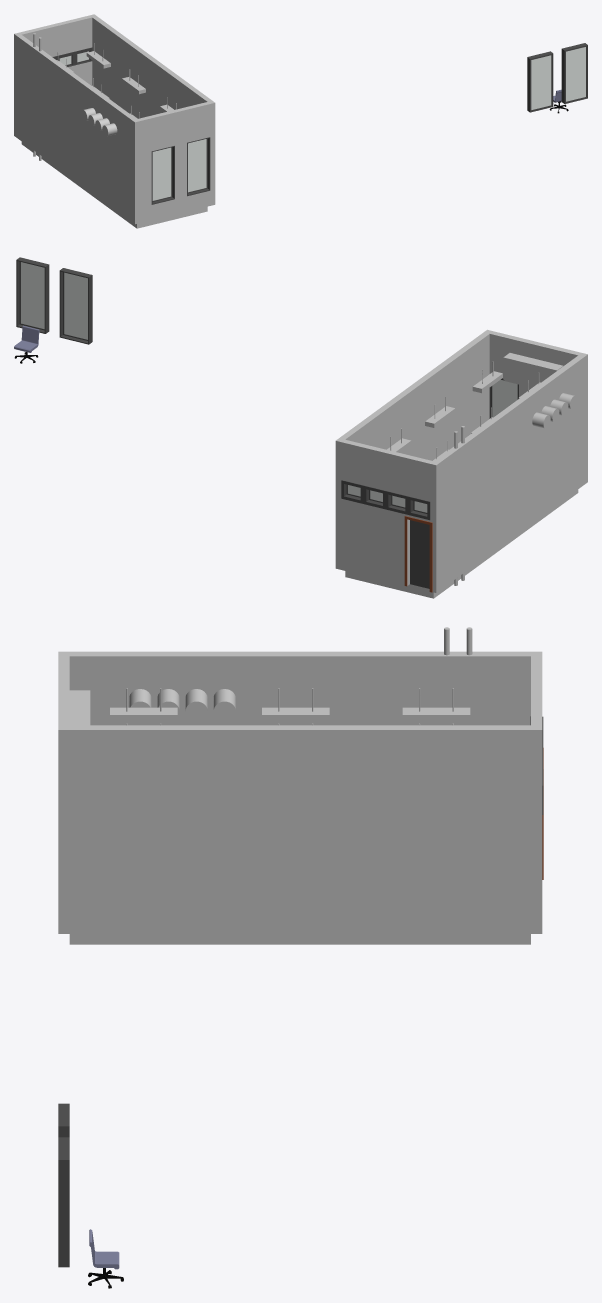
The model's file is 417-0622-simple.dae.
3 views of the same model, one above another, from view 1: azimuth 30°, elevation 25°; view 2: azimuth 150°, elevation 25°; view 3: azimuth 270°, elevation 25° (orthographic). The views are drawn at different scales.
Visible parts, largest first — view 1: 基本牆 通用 - 200mm [282980], 基本牆 通用 - 200mm [282975], 基本牆 通用 - 200mm [287786], 基本牆 通用 - 200mm [282977], M_固定 96*210*60 [321171] (×2), M_固定 96*210*60 [321170] (×2), M_固定 96*210*60 [282994] (×2), M_固定 96*210*60 [282993] (×2), 樓板 通用 300mm [309368]; view 2: 基本牆 通用 - 200mm [282980], 基本牆 通用 - 200mm [282977], 基本牆 通用 - 200mm [287786], 基本牆 通用 - 200mm [282975], M_固定 96*210*60 [321171] (×2), M_固定 96*210*60 [321170] (×2), M_單個嵌平 100*210 [282988] (×2), M_加熱裝置通風機 - 電子式 - 直立 - 教室 0-353 LPS [287397], 樓板 通用 300mm [309368], M_固定 96*210*60 [282993], M_椅-工作 M_椅-工作 [340613]; view 3: 基本牆 通用 - 200mm [287786], 基本牆 通用 - 200mm [282980], 樓板 通用 300mm [309368], 基本牆 通用 - 200mm [282975], 基本牆 通用 - 200mm [282977], M_固定 96*210*60 [321170], M_吊燈燈具 300x1200 - 120V [290002], M_吊燈燈具 300x1200 - 120V [290052], M_吊燈燈具 300x1200 - 120V [290061].
Boxes of the visible parts, x1,y1,x2,y2 form: 基本牆 通用 - 200mm [282980]: [16, 35, 136, 221]; 基本牆 通用 - 200mm [282975]: [132, 100, 215, 224]; 基本牆 通用 - 200mm [287786]: [92, 16, 211, 118]; 基本牆 通用 - 200mm [282977]: [14, 14, 96, 137]; M_固定 96*210*60 [321171] (×2): [527, 51, 553, 112]; M_固定 96*210*60 [321170] (×2): [561, 43, 587, 103]; M_固定 96*210*60 [282994] (×2): [151, 146, 174, 204]; M_固定 96*210*60 [282993] (×2): [187, 137, 210, 196]; 樓板 通用 300mm [309368]: [21, 142, 207, 228]; 基本牆 通用 - 200mm [282980]: [434, 355, 584, 589]; 基本牆 通用 - 200mm [282977]: [335, 438, 439, 592]; 基本牆 通用 - 200mm [287786]: [339, 332, 489, 460]; 基本牆 通用 - 200mm [282975]: [484, 329, 587, 484]; M_固定 96*210*60 [321171] (×2): [59, 268, 92, 344]; M_固定 96*210*60 [321170] (×2): [16, 257, 49, 333]; M_單個嵌平 100*210 [282988] (×2): [404, 516, 432, 592]; M_加熱裝置通風機 - 電子式 - 直立 - 教室 0-353 LPS [287397]: [503, 353, 563, 387]; 樓板 通用 300mm [309368]: [345, 489, 578, 598]; M_固定 96*210*60 [282993]: [492, 379, 517, 417]; M_椅-工作 M_椅-工作 [340613]: [14, 325, 39, 352]; 基本牆 通用 - 200mm [287786]: [69, 725, 530, 933]; 基本牆 通用 - 200mm [282980]: [69, 651, 530, 725]; 樓板 通用 300mm [309368]: [69, 934, 530, 944]; 基本牆 通用 - 200mm [282975]: [58, 651, 69, 933]; 基本牆 通用 - 200mm [282977]: [531, 651, 542, 933]; M_固定 96*210*60 [321170]: [58, 1137, 69, 1267]; M_吊燈燈具 300x1200 - 120V [290002]: [402, 688, 470, 721]; M_吊燈燈具 300x1200 - 120V [290052]: [262, 688, 329, 721]; M_吊燈燈具 300x1200 - 120V [290061]: [110, 688, 177, 721].
Bounding box in the file's own units: 747 × 189 × 340.
